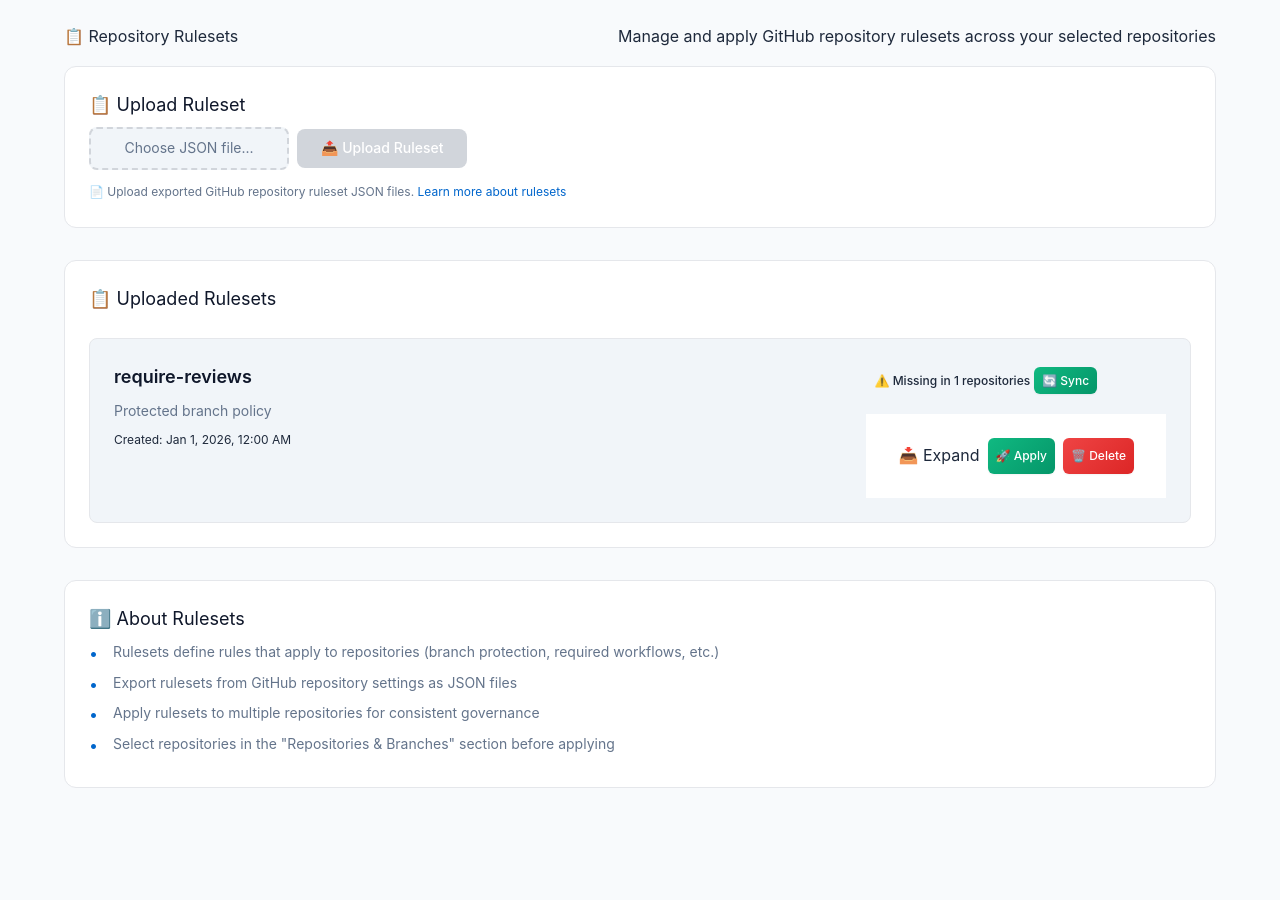
Test: RulesetManager ruleset sync › reports a partial apply rather than claiming success
This screenshot has width=1280, height=900.
Expected: the heading "require-reviews" is shown, [114,366,252,387]
Click the button titled "Sync ruleset to missing repositories".
click(1066, 381)  # box [1034,367,1097,394]
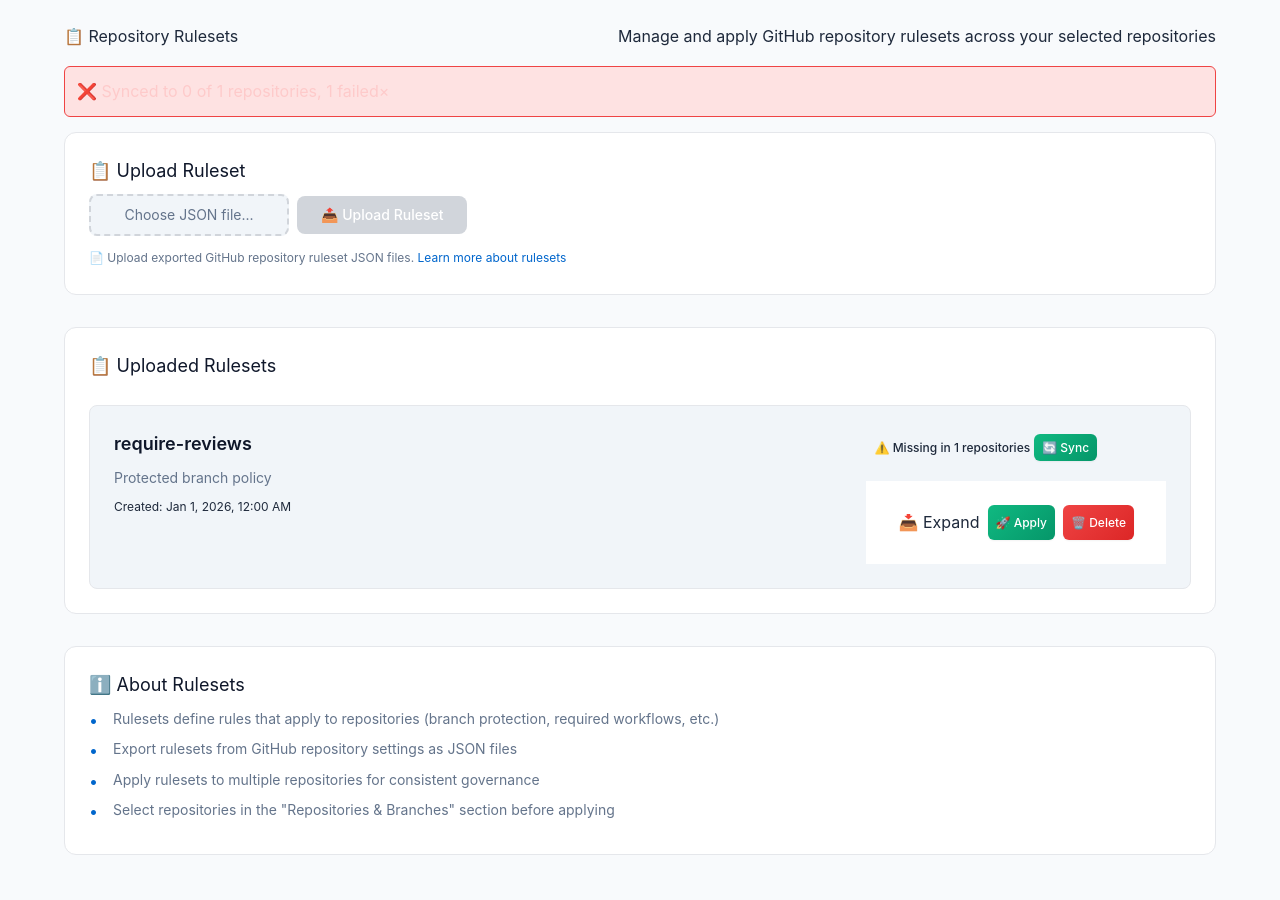
Result: the text "❌ Synced to 0 of 1 repositories, 1 failed" is shown at [77,81,379,101]
